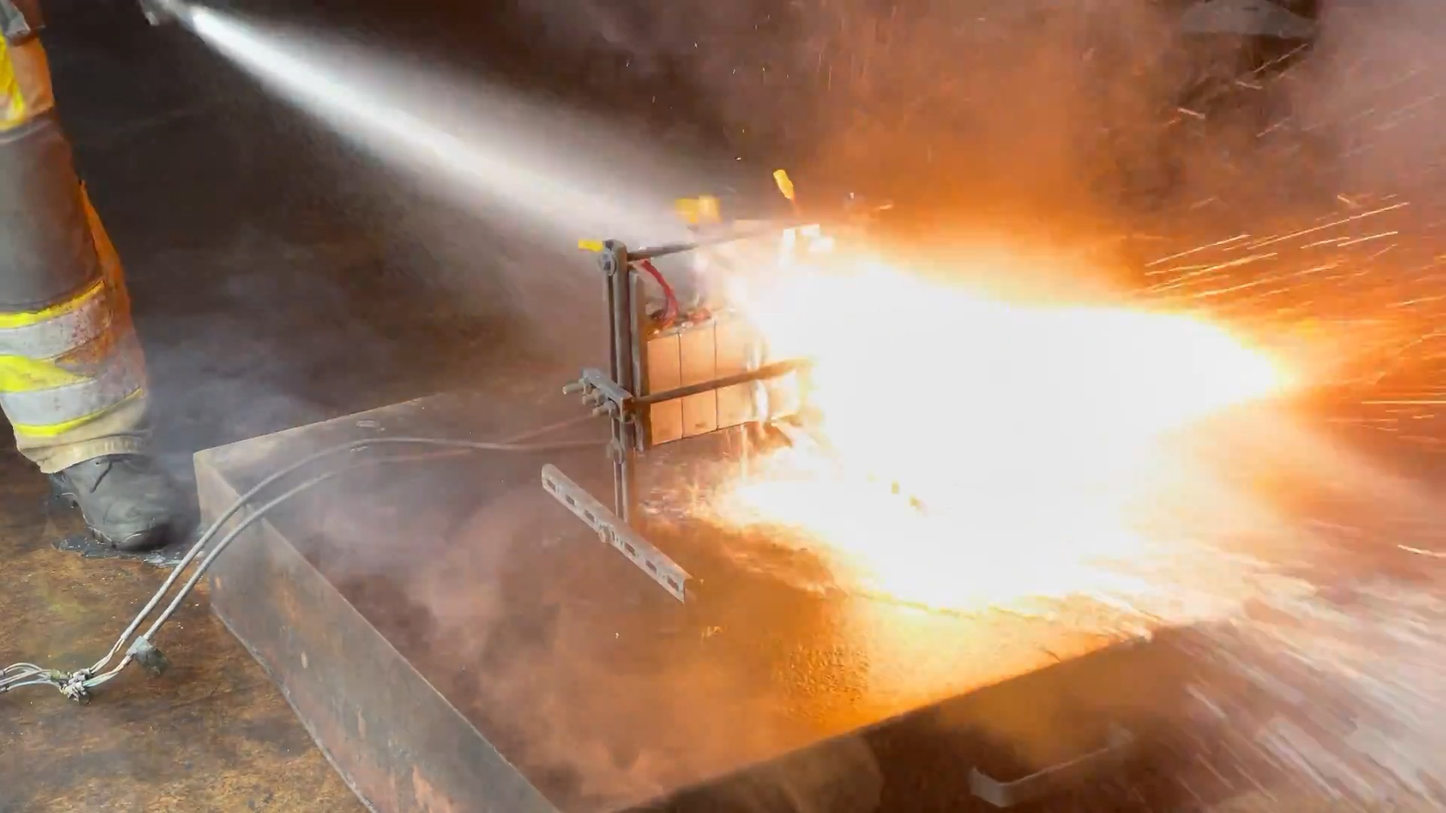fire: (694, 200, 1348, 635)
smoke: (726, 0, 1425, 230)
